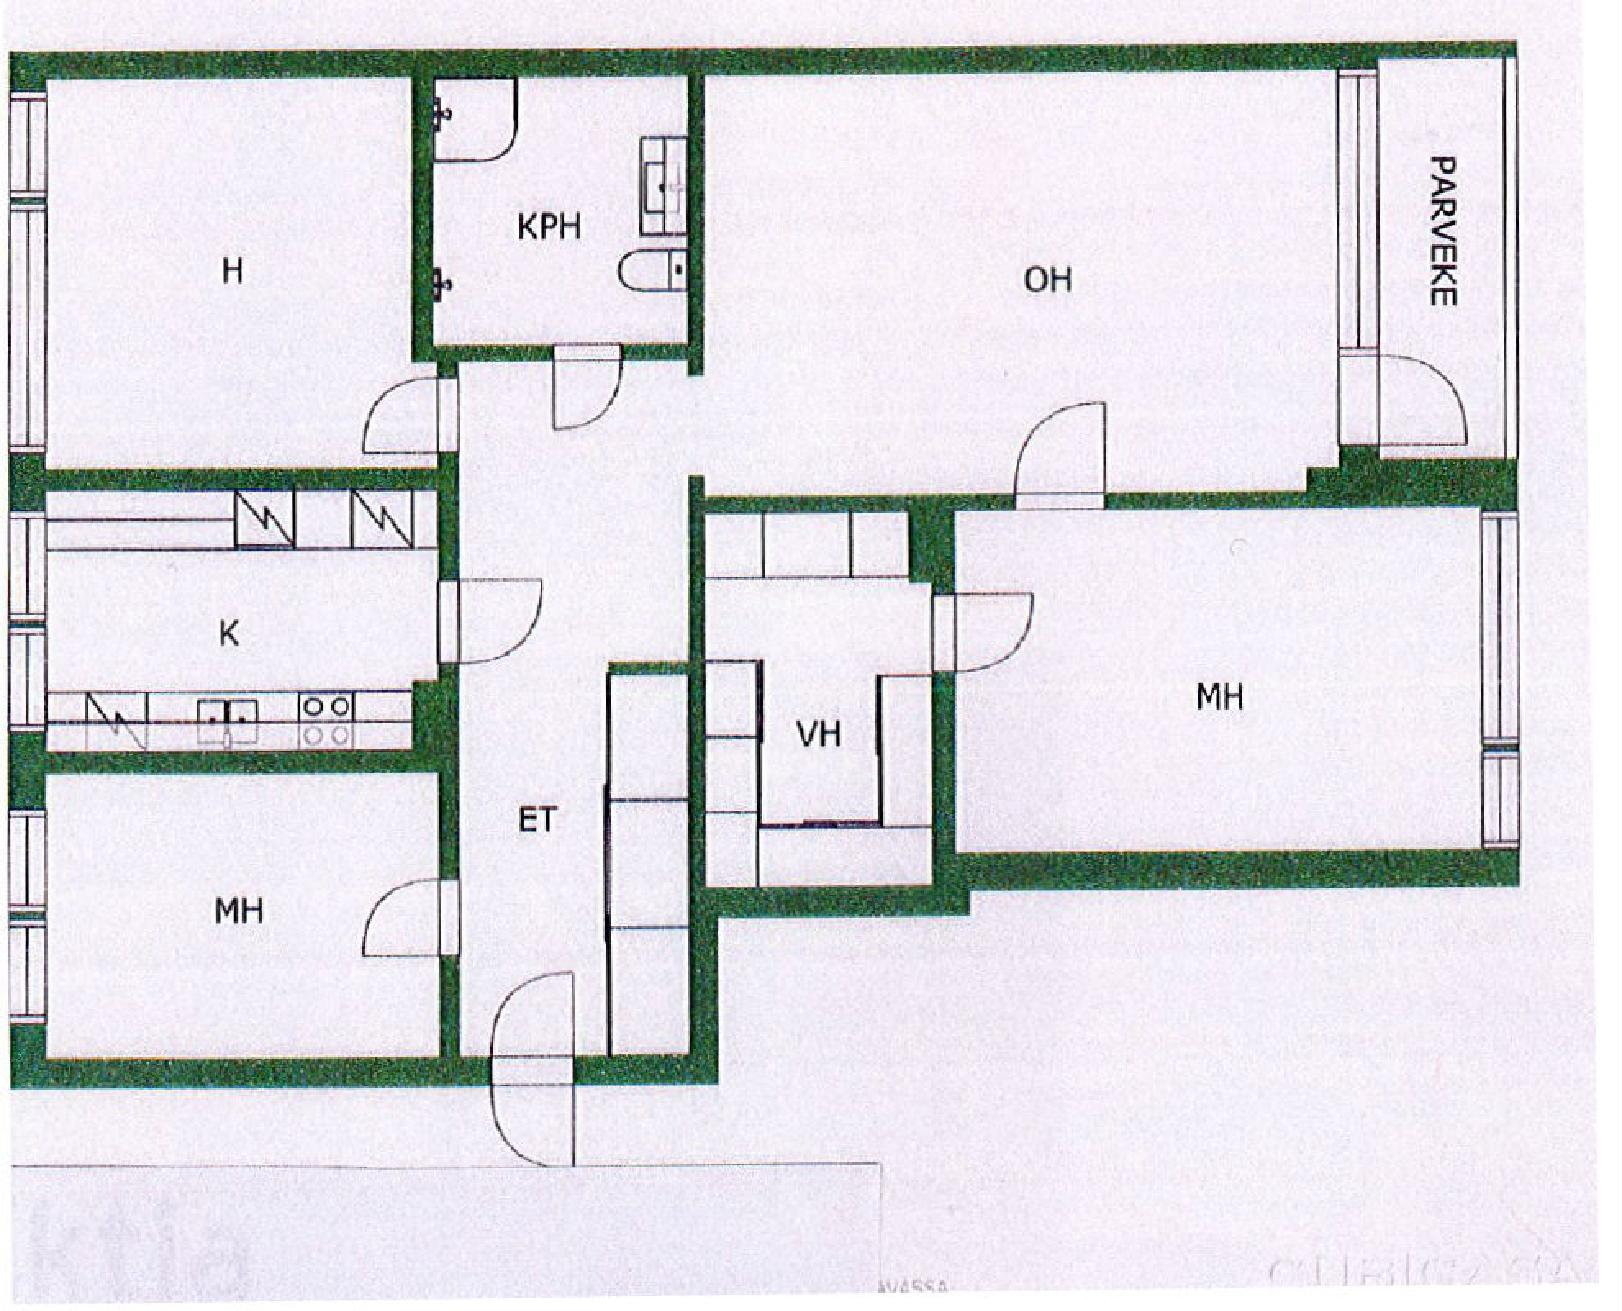door: (489, 965, 579, 1173), (1002, 379, 1117, 515), (1326, 346, 1470, 453), (923, 587, 1062, 680), (433, 571, 547, 668), (354, 368, 465, 455), (358, 878, 457, 961), (550, 342, 623, 445)
window: (1326, 66, 1375, 346), (1475, 515, 1522, 748), (7, 201, 49, 453), (1474, 750, 1523, 844), (1, 98, 48, 193), (11, 630, 48, 732), (9, 922, 47, 1022), (9, 808, 48, 903), (12, 510, 47, 615)
zone: (443, 76, 1340, 1058), (961, 510, 1484, 853), (48, 80, 436, 468), (39, 771, 445, 1054), (698, 516, 933, 886), (437, 76, 682, 341), (1380, 51, 1502, 466)
